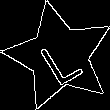L_NW: (32, 27, 86, 86)
